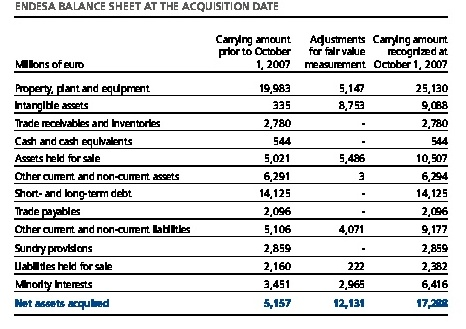table: (0, 0, 466, 329)
